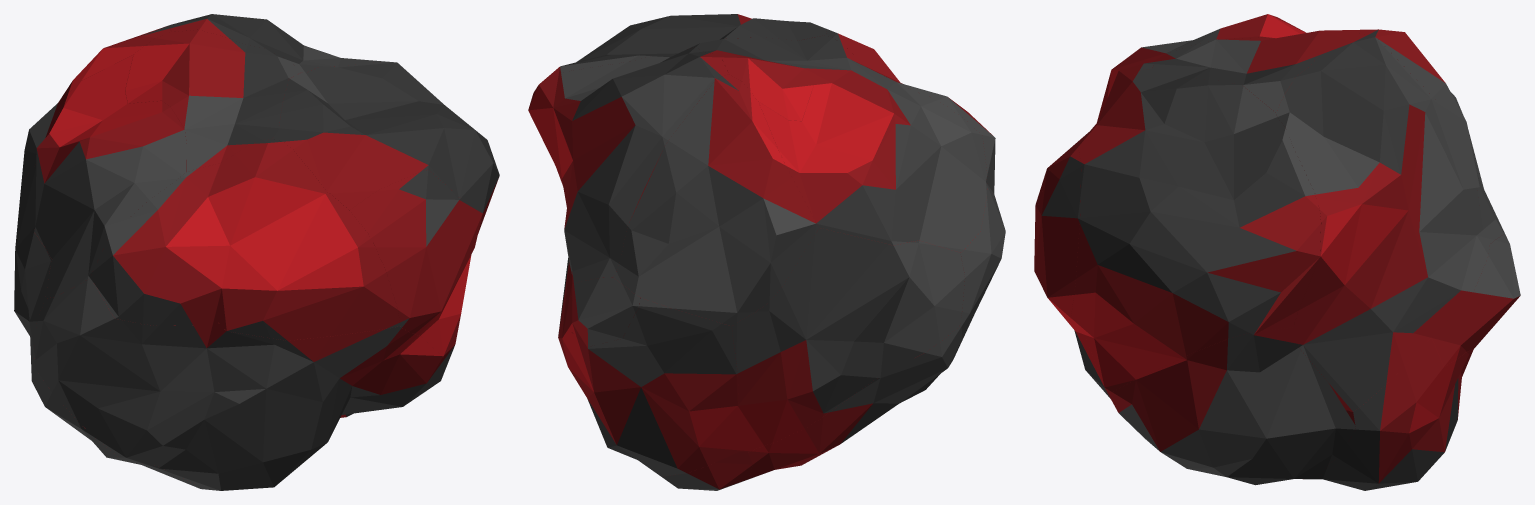
The model's file is Asteroid_Big_2.fbx.
3 renders of one model, left to right at view 1: azimuth 30°, elevation 25°; view 2: azimuth 150°, elevation 25°; view 3: azimuth 270°, elevation 25°, orthographic. The views are drawn at different scales.
Visible parts, largest first — view 1: Cube.002_cell.022, Cube.002_cell.019, Cube.002_cell.018, Cube.002_cell.032, Cube.002_cell.029, Cube.002_cell.030, Cube.002_cell.028, Cube.002_cell.021, Cube.002_cell.034, Cube.002_cell.025, Cube.002_cell.031; view 2: Cube.002_cell.028, Cube.002_cell.034, Cube.002_cell.032, Cube.002_cell.021, Cube.002_cell.024, Cube.002_cell.025, Cube.002_cell.029, Cube.002_cell.018, Cube.002_cell.026, Cube.002_cell.022, Cube.002_cell.019, Cube.002_cell.020; view 3: Cube.002_cell.018, Cube.002_cell.021, Cube.002_cell.031, Cube.002_cell.024, Cube.002_cell.029, Cube.002_cell.030, Cube.002_cell.026, Cube.002_cell.034, Cube.002_cell.019, Cube.002_cell.032, Cube.002_cell.022.
Boxes of the visible parts, bbox=[...] form: Cube.002_cell.022: bbox=[34, 278, 443, 490]; Cube.002_cell.019: bbox=[90, 139, 399, 340]; Cube.002_cell.018: bbox=[273, 61, 499, 357]; Cube.002_cell.032: bbox=[34, 55, 186, 298]; Cube.002_cell.029: bbox=[125, 29, 302, 171]; Cube.002_cell.030: bbox=[349, 170, 464, 335]; Cube.002_cell.028: bbox=[14, 164, 51, 364]; Cube.002_cell.021: bbox=[168, 14, 384, 72]; Cube.002_cell.034: bbox=[21, 25, 171, 181]; Cube.002_cell.025: bbox=[31, 364, 206, 489]; Cube.002_cell.031: bbox=[415, 255, 471, 398]; Cube.002_cell.028: bbox=[731, 228, 964, 452]; Cube.002_cell.034: bbox=[613, 74, 818, 325]; Cube.002_cell.032: bbox=[758, 70, 987, 252]; Cube.002_cell.021: bbox=[528, 47, 728, 303]; Cube.002_cell.024: bbox=[558, 296, 738, 476]; Cube.002_cell.025: bbox=[715, 326, 962, 481]; Cube.002_cell.029: bbox=[688, 35, 889, 121]; Cube.002_cell.018: bbox=[529, 14, 827, 177]; Cube.002_cell.026: bbox=[568, 277, 639, 346]; Cube.002_cell.022: bbox=[957, 182, 1005, 350]; Cube.002_cell.019: bbox=[826, 29, 995, 197]; Cube.002_cell.020: bbox=[661, 462, 752, 490]; Cube.002_cell.018: bbox=[1069, 68, 1320, 393]; Cube.002_cell.021: bbox=[1276, 33, 1489, 411]; Cube.002_cell.031: bbox=[1111, 327, 1355, 485]; Cube.002_cell.024: bbox=[1303, 226, 1507, 490]; Cube.002_cell.029: bbox=[1152, 29, 1361, 112]; Cube.002_cell.030: bbox=[1034, 145, 1081, 320]; Cube.002_cell.026: bbox=[1431, 234, 1520, 366]; Cube.002_cell.034: bbox=[1359, 29, 1504, 243]; Cube.002_cell.019: bbox=[1034, 44, 1170, 249]; Cube.002_cell.032: bbox=[1161, 14, 1306, 51]; Cube.002_cell.022: bbox=[1064, 317, 1147, 440].
Bounding box in the file's own units: 1549 × 1396 × 1416.
